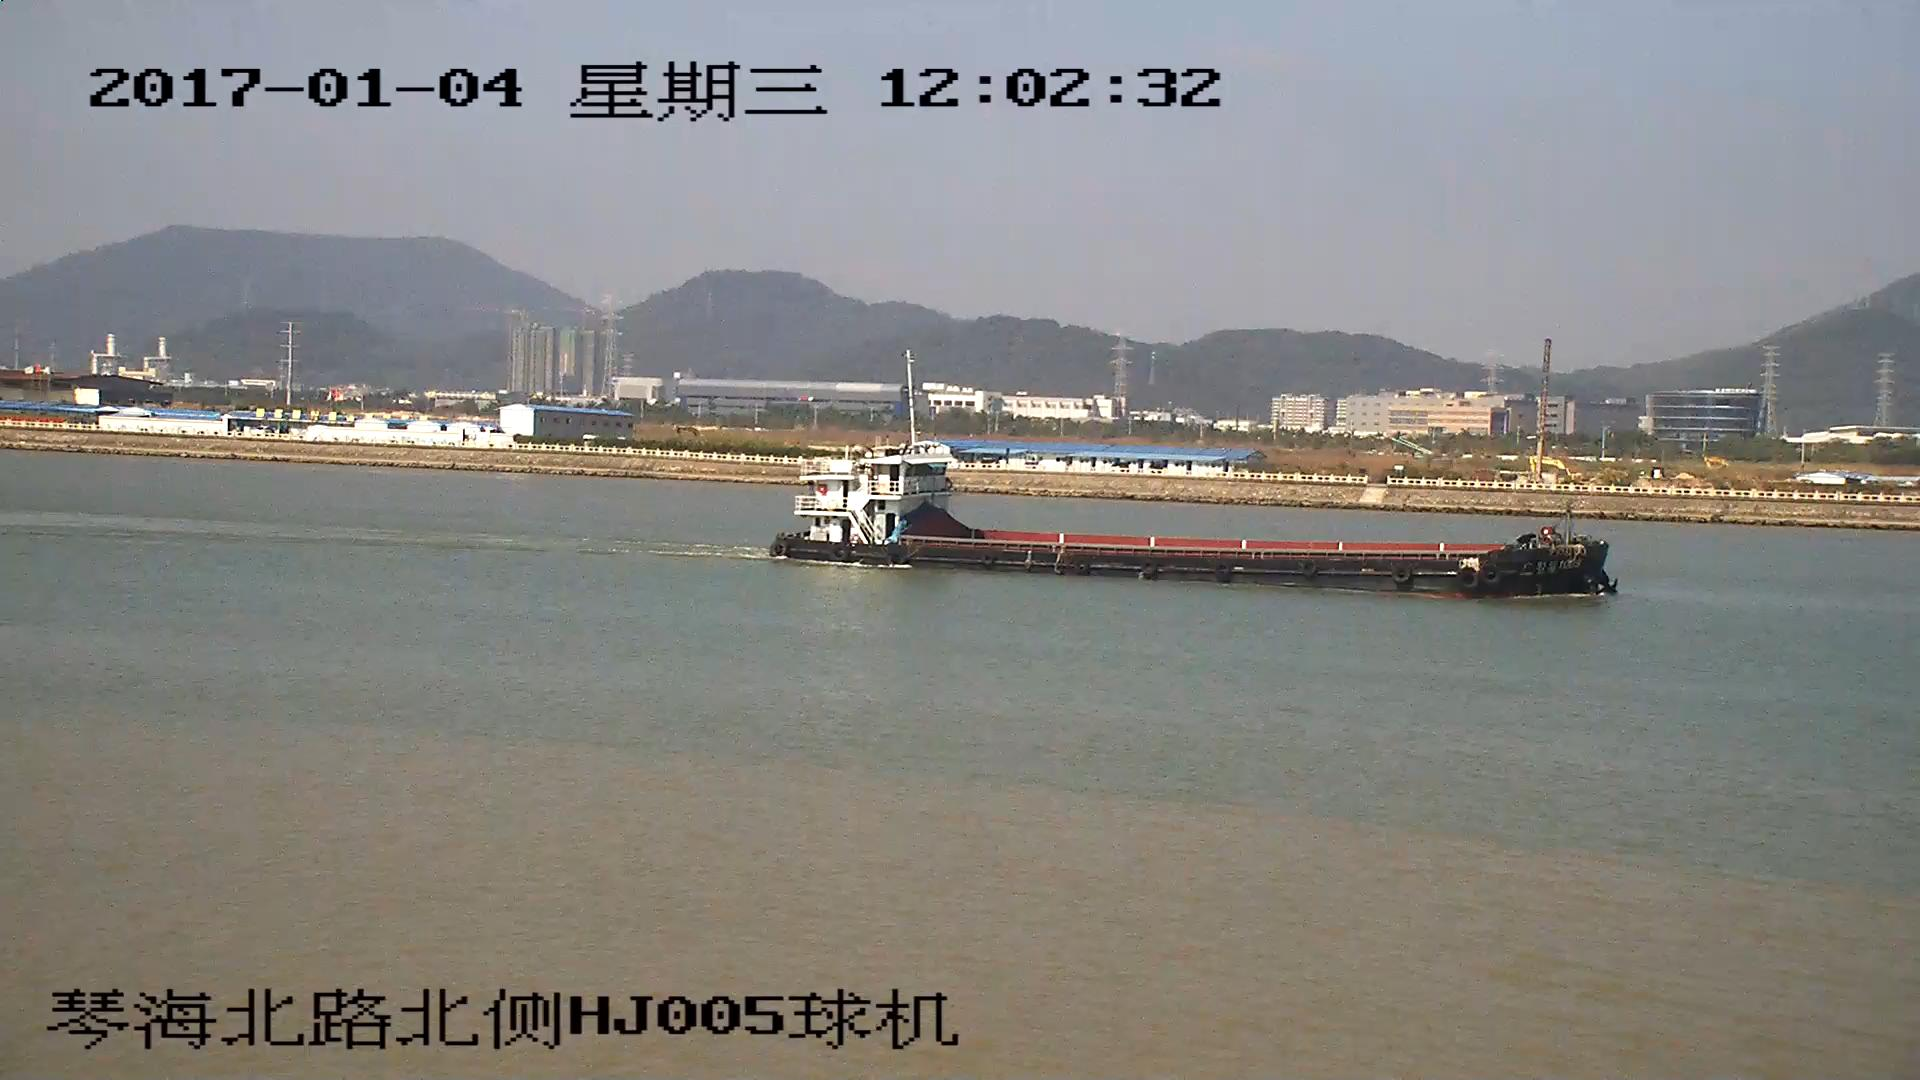general cargo ship: (767, 458, 1620, 595)
